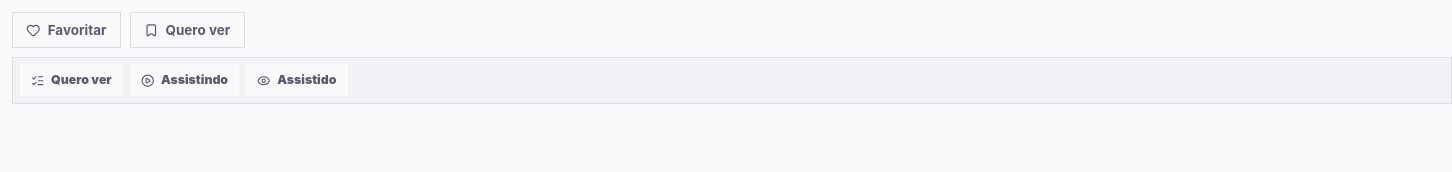
ProductionActions › usuário autenticado › mostra mensagem de erro quando a sincronização falha
Click the button with aria-label "adicionar aos favoritos" at [66, 30], box [12,12,121,48]
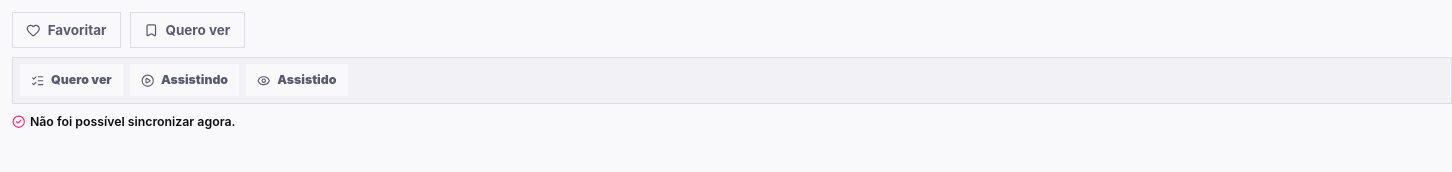
Check: the text "Não foi possível sincronizar agora." is shown, box [12,113,235,131]
